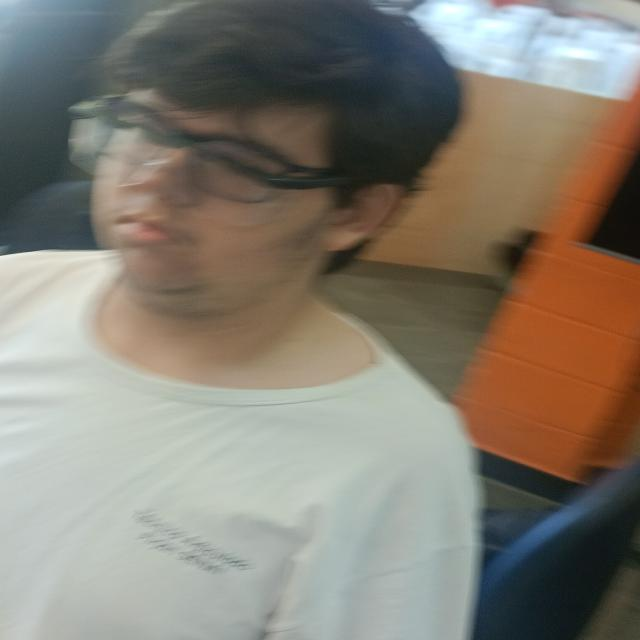oculos-epi: (69, 103, 350, 228)
